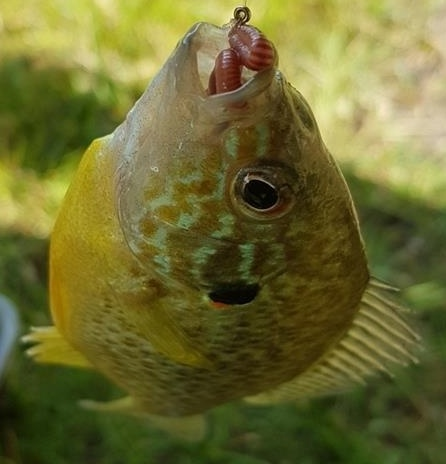Lepomis gibbosus: (20, 20, 426, 444)
